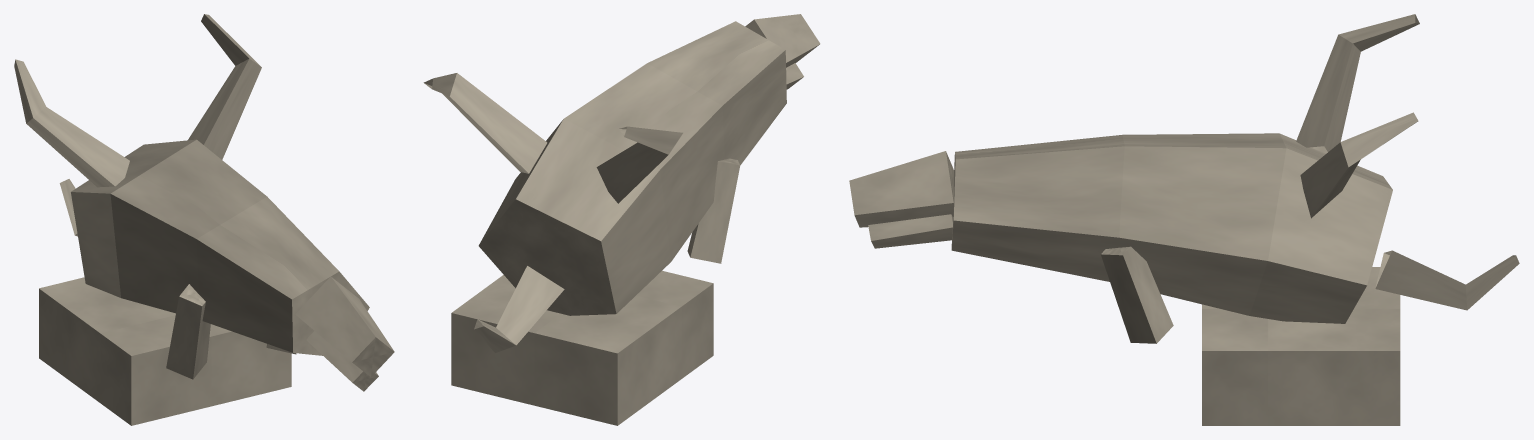
The model's file is Gargoyle_1_LOD1.gltf.
3 renders of one model, left to right at view 1: azimuth 30°, elevation 25°; view 2: azimuth 150°, elevation 25°; view 3: azimuth 270°, elevation 25°, orthographic. The views are drawn at different scales.
Visible parts, largest first — view 1: Gargoyle_1_LOD1; view 2: Gargoyle_1_LOD1; view 3: Gargoyle_1_LOD1.
Part boxes in pixels (x1,y1,x2,y2): Gargoyle_1_LOD1: (14, 14, 394, 425); Gargoyle_1_LOD1: (423, 14, 820, 425); Gargoyle_1_LOD1: (849, 14, 1519, 425).
Size of the model in its own units: 0.8744 by 1.07 by 2.03.
1 material, 1 textured.
